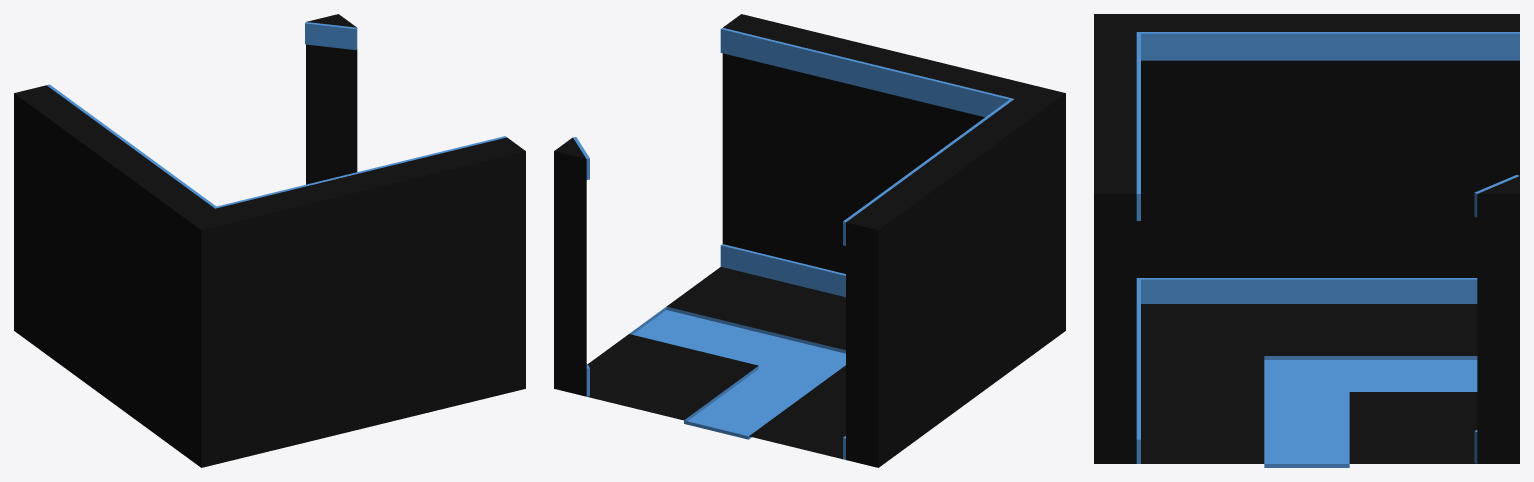
Rendered from Wall_Corner 1.fbx.
3 views of the same model, side by side, from view 1: azimuth 30°, elevation 25°; view 2: azimuth 150°, elevation 25°; view 3: azimuth 270°, elevation 25° (orthographic). The views are drawn at different scales.
Visible parts, largest first — view 1: pPlane1; view 2: pPlane1; view 3: pPlane1.
Part boxes in pixels (x1,y1,x2,y2): pPlane1: [14, 14, 525, 467]; pPlane1: [554, 14, 1065, 467]; pPlane1: [1094, 14, 1519, 467].
Bounding box in the file's own units: 10 × 7.1 × 10.
